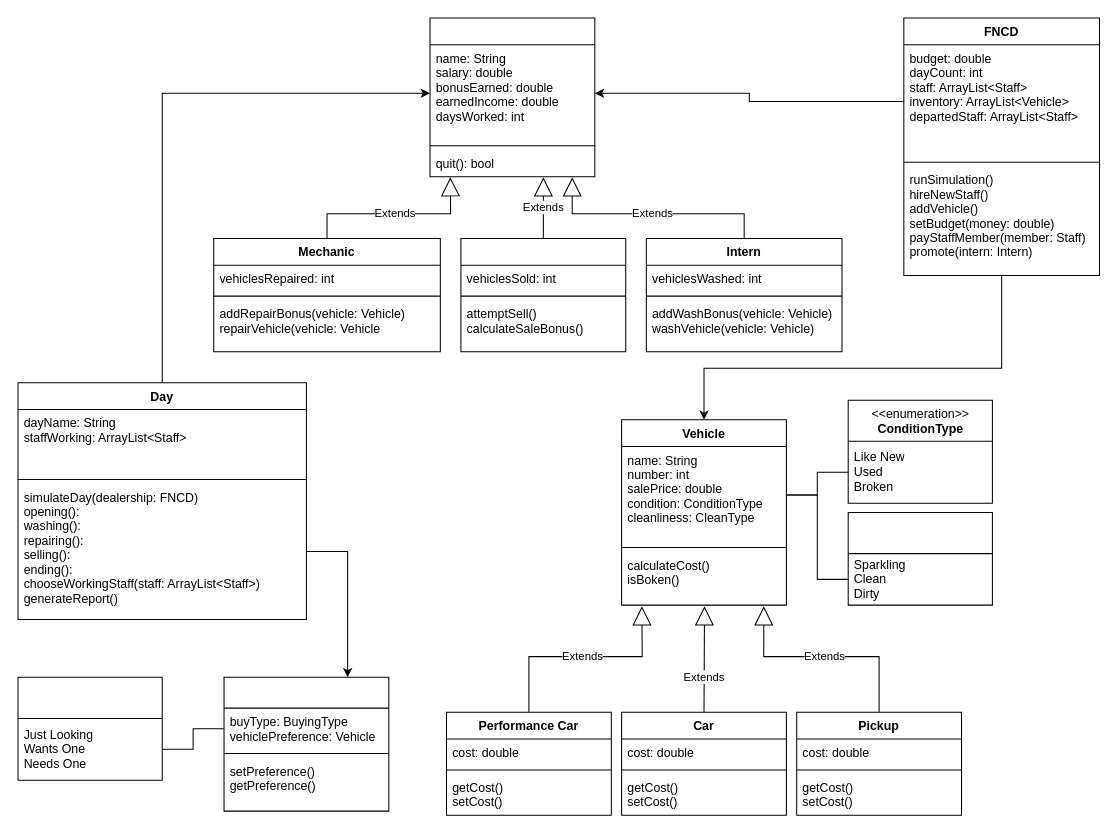
The diagram is 1118 pixels wide and 836 high, and some of its shapes have lost their labels. The box of each missing label's shape, as (x1, y1, x2, y2) in pixels:
<<enumeration>> BuyingType: (17, 676, 162, 780)
<<enumeration>> CleanType: (847, 511, 992, 605)
Buyer: (223, 676, 389, 811)
Salesperson: (460, 237, 626, 352)
Staff: (429, 17, 595, 177)
